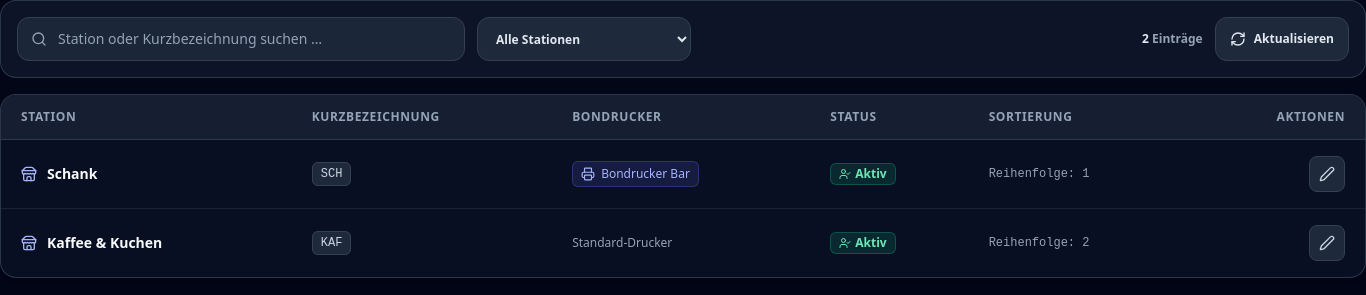
Test case: AdminStationsView › rendert Stationen mit Drucker und filtert nach Druckerzuordnung
Check: the text "Schank" is shown, box [47,164,98,184]
Check: the text "Bondrucker Bar" is shown, box [572,161,699,187]
Select "Mit zugewiesenem Drucker" in the dropdown named "Druckerzuordnung filtern" at x=584, y=39, box [477,17,691,61]
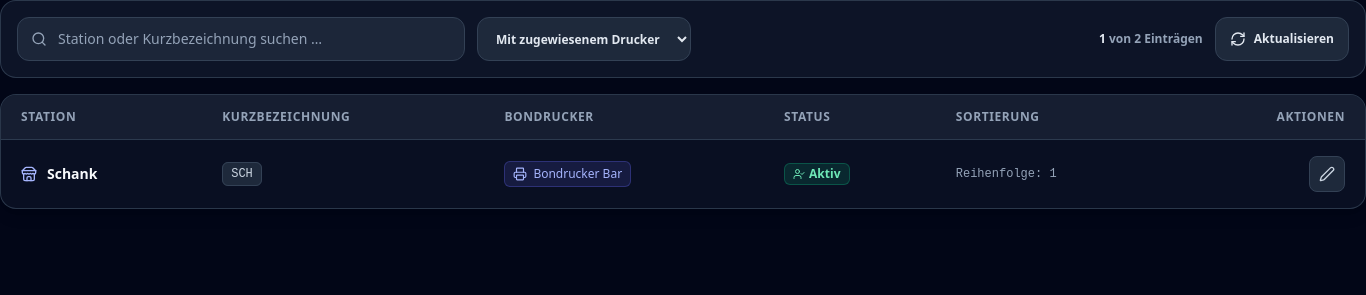
Check: the text "Schank" is shown, box [47,164,98,184]
Check: the text "Kaffee & Kuchen" is gone
